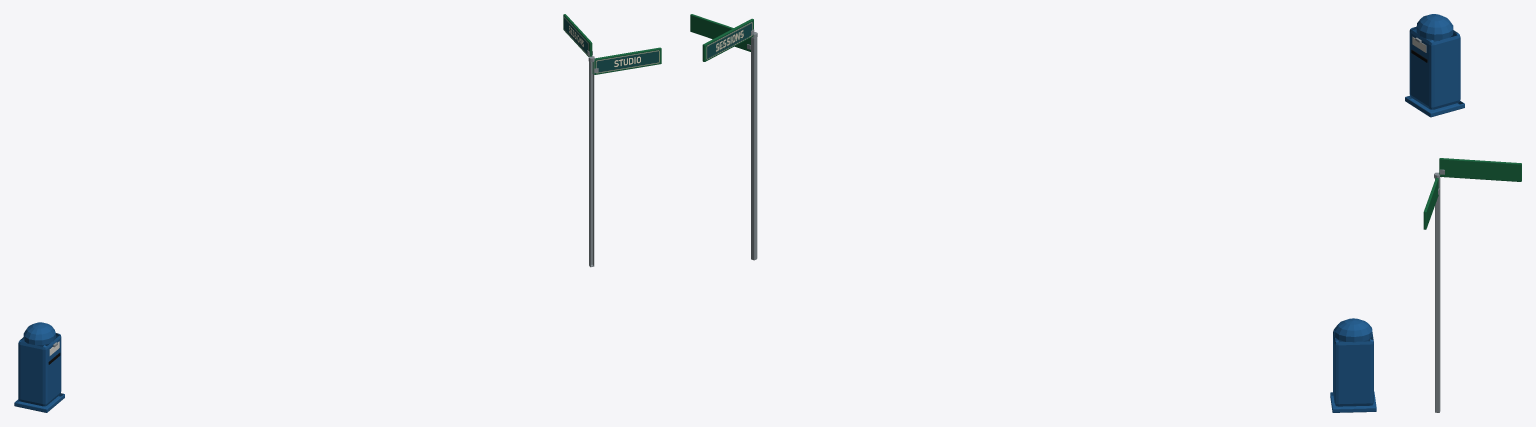
Rendered from studio.glb.
3 renders of one model, left to right at view 1: azimuth 30°, elevation 25°; view 2: azimuth 150°, elevation 25°; view 3: azimuth 270°, elevation 25°, orthographic. The views are drawn at different scales.
Parts seen in each view (by area): view 1: geometry_037539d12a06c, geometry_0, geometry_2, geometry_1; view 2: geometry_037539d12a06c, geometry_0, geometry_1, geometry_3; view 3: geometry_037539d12a06c, geometry_1, geometry_0.
Boxes of the visible parts, x1,y1,x2,y2 form: geometry_037539d12a06c: [14, 322, 64, 412]; geometry_0: [587, 50, 598, 267]; geometry_2: [595, 50, 659, 73]; geometry_1: [563, 14, 661, 74]; geometry_037539d12a06c: [1330, 318, 1376, 412]; geometry_0: [747, 29, 757, 260]; geometry_1: [690, 14, 753, 61]; geometry_3: [706, 21, 752, 59]; geometry_037539d12a06c: [1405, 14, 1464, 117]; geometry_1: [1423, 158, 1521, 229]; geometry_0: [1434, 169, 1444, 412].
Bounding box in the file's own units: 10.1 × 3.36 × 1.4.
Materials: 8 (2 with a texture image).
